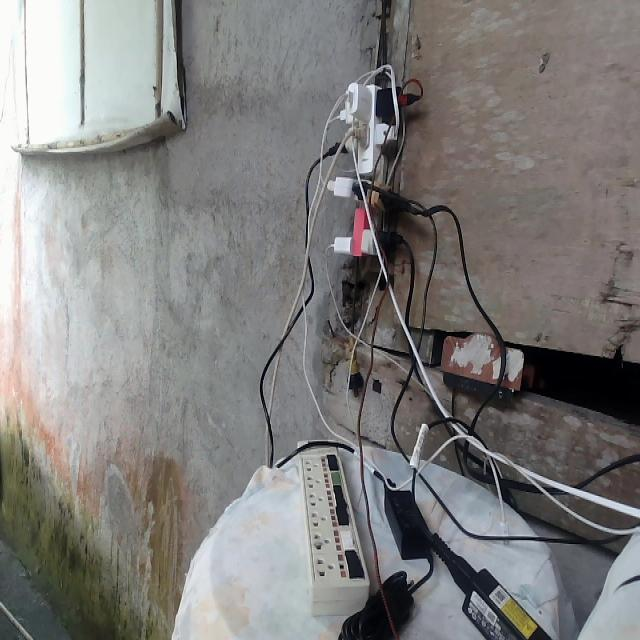-: (326, 80, 410, 260)
